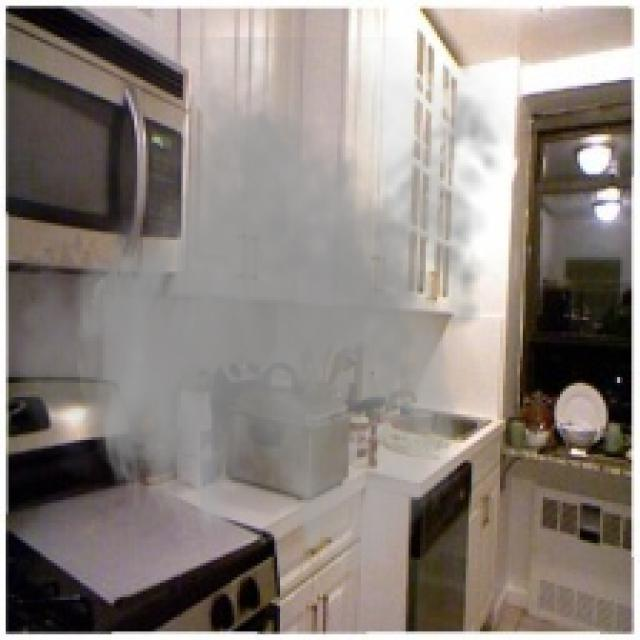smoke: (3, 37, 517, 577)
